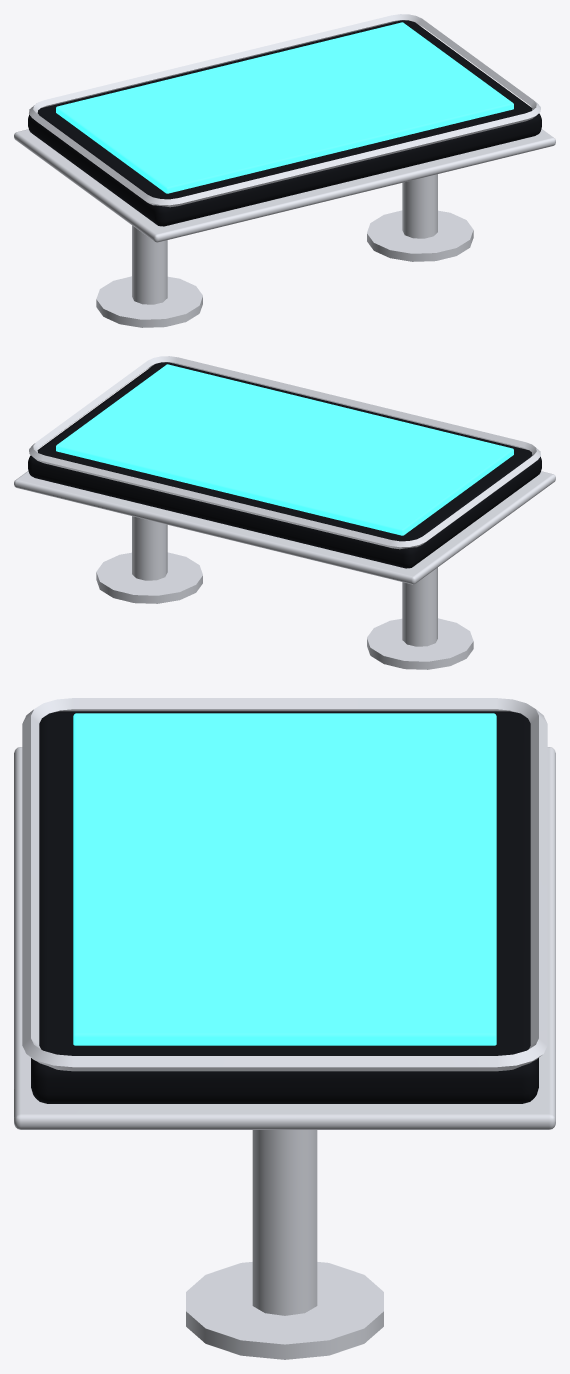
Rendered from table_lounge_glow.glb.
3 renders of one model, top to bottom at view 1: azimuth 30°, elevation 25°; view 2: azimuth 150°, elevation 25°; view 3: azimuth 270°, elevation 25°, orthographic. The views are drawn at different scales.
Parts seen in each view (by area): view 1: table_lounge_glow; view 2: table_lounge_glow; view 3: table_lounge_glow.
Part boxes in pixels (x1=…): table_lounge_glow: x1=14, y1=14, x2=555, y2=327; table_lounge_glow: x1=14, y1=356, x2=555, y2=669; table_lounge_glow: x1=14, y1=698, x2=555, y2=1359.
Size of the model in its own units: 1.04 by 0.415 by 0.64.
